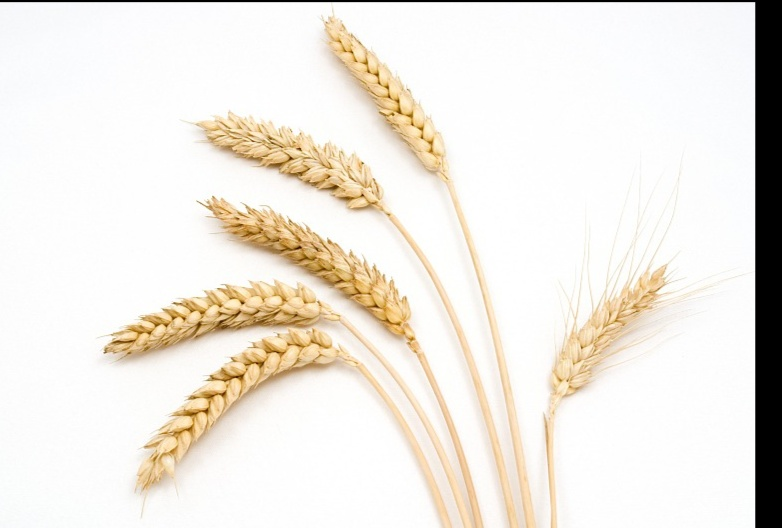wheat: (101, 330, 356, 499), (198, 198, 419, 341), (318, 12, 467, 212), (545, 235, 679, 435), (198, 109, 404, 227), (98, 280, 332, 357)
